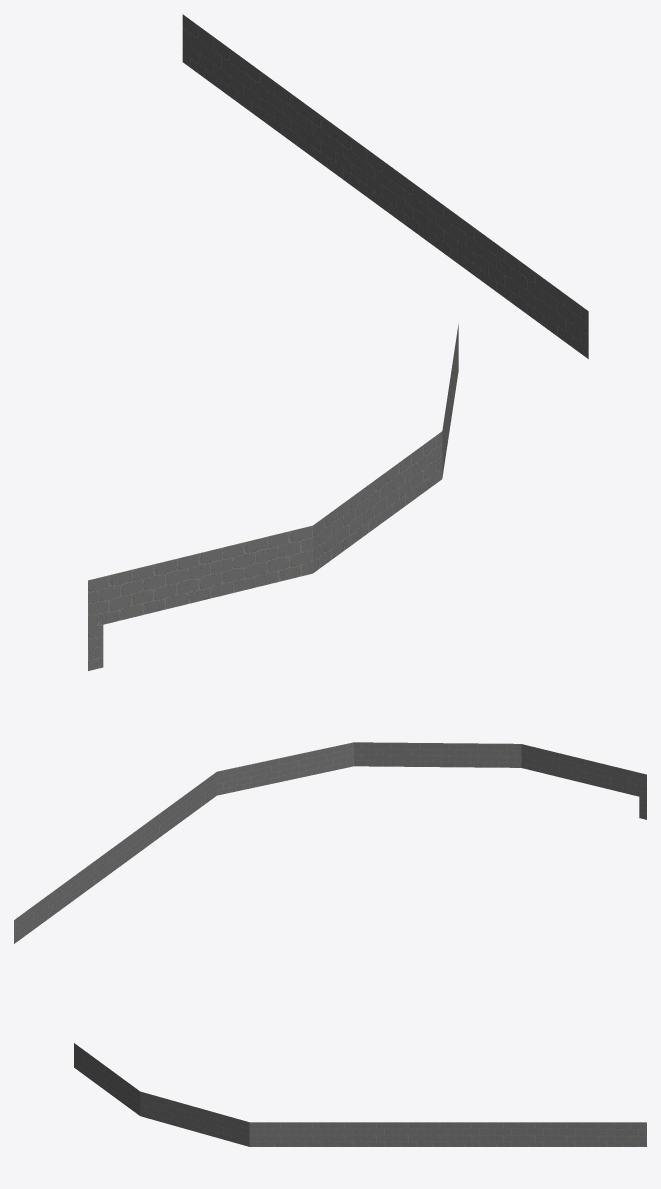
The model's file is kd_stage_13612f_3_25_bounded.glb.
3 views of the same model, one above another, from view 1: azimuth 30°, elevation 25°; view 2: azimuth 150°, elevation 25°; view 3: azimuth 270°, elevation 25° (orthographic). The views are drawn at different scales.
Parts seen in each view (by area): view 1: kd_stage_13612f_3_25_bounded; view 2: kd_stage_13612f_3_25_bounded; view 3: kd_stage_13612f_3_25_bounded.
Boxes of the visible parts, x1,y1,x2,y2 form: kd_stage_13612f_3_25_bounded: (88, 14, 588, 670); kd_stage_13612f_3_25_bounded: (14, 742, 646, 943); kd_stage_13612f_3_25_bounded: (74, 1043, 646, 1146).
Size of the model in its own units: 12.76 by 1.7 by 20.87.
1 material, 1 textured.
